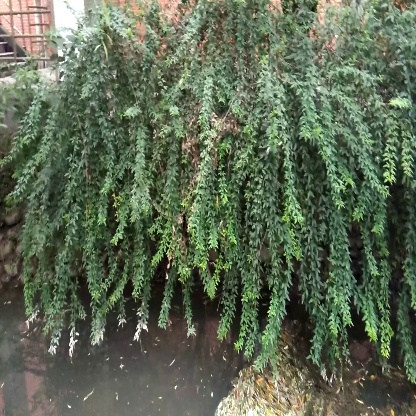grass: (30, 205, 122, 333)
